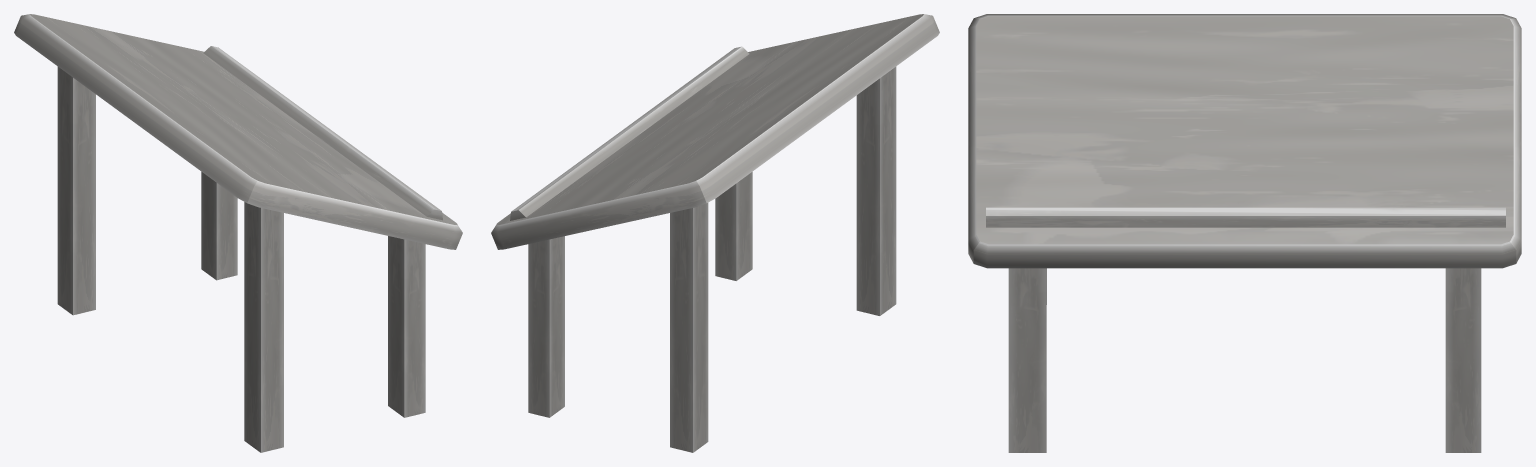
Rendered from childdesk.fbx.
The picture shows the model from 3 angles, left to right: view 1: azimuth 30°, elevation 25°; view 2: azimuth 150°, elevation 25°; view 3: azimuth 270°, elevation 25°; orthographic projection. The views are drawn at different scales.
Parts seen in each view (by area): view 1: childdesk; view 2: childdesk; view 3: childdesk.
Boxes of the visible parts, x1,y1,x2,y2 form: childdesk: [14, 14, 462, 452]; childdesk: [491, 14, 939, 452]; childdesk: [968, 14, 1521, 452].
Size of the model in its own units: 108 by 133 by 200.
